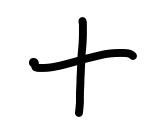plus: (28, 17, 138, 121)
